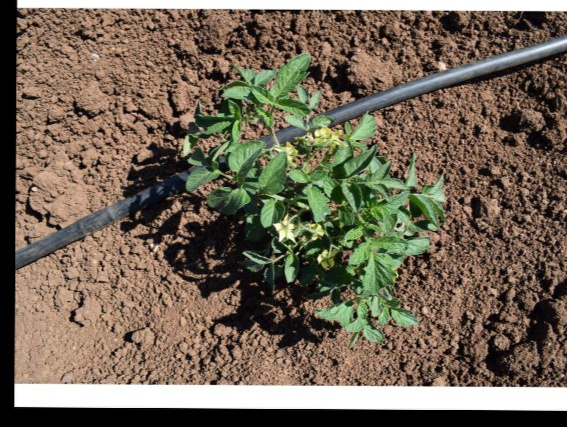tomato: (178, 48, 447, 343)
